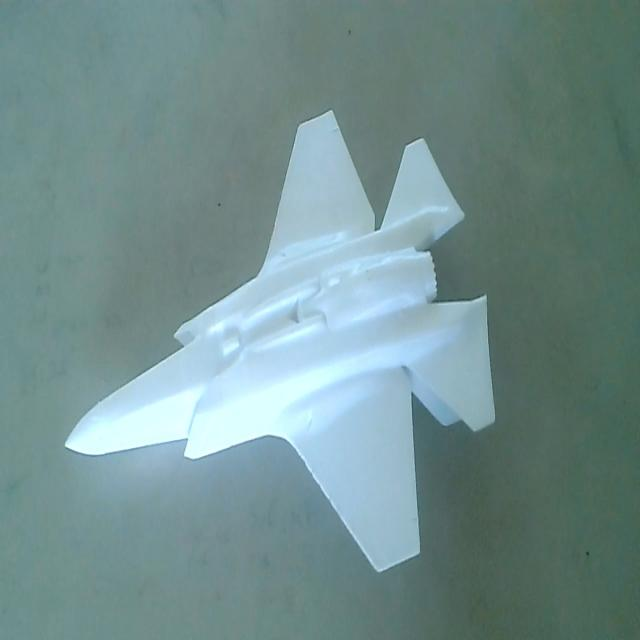Jet: (58, 107, 498, 590)
